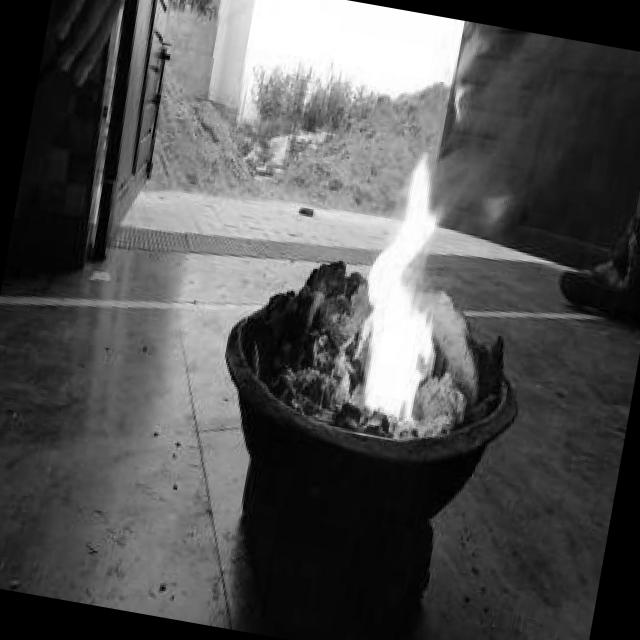Smoke: (339, 133, 475, 425), (468, 184, 518, 244)
